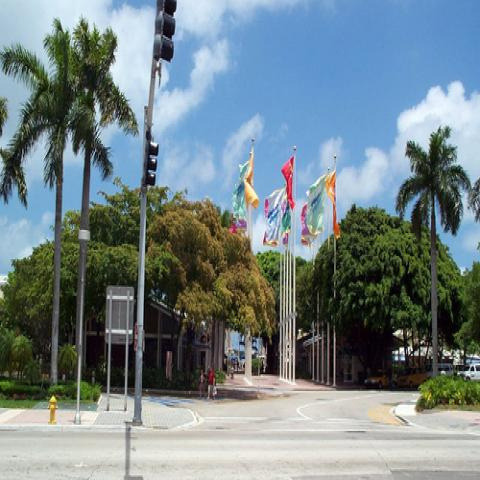car: (399, 363, 428, 388), (457, 362, 479, 383), (427, 363, 454, 380)
